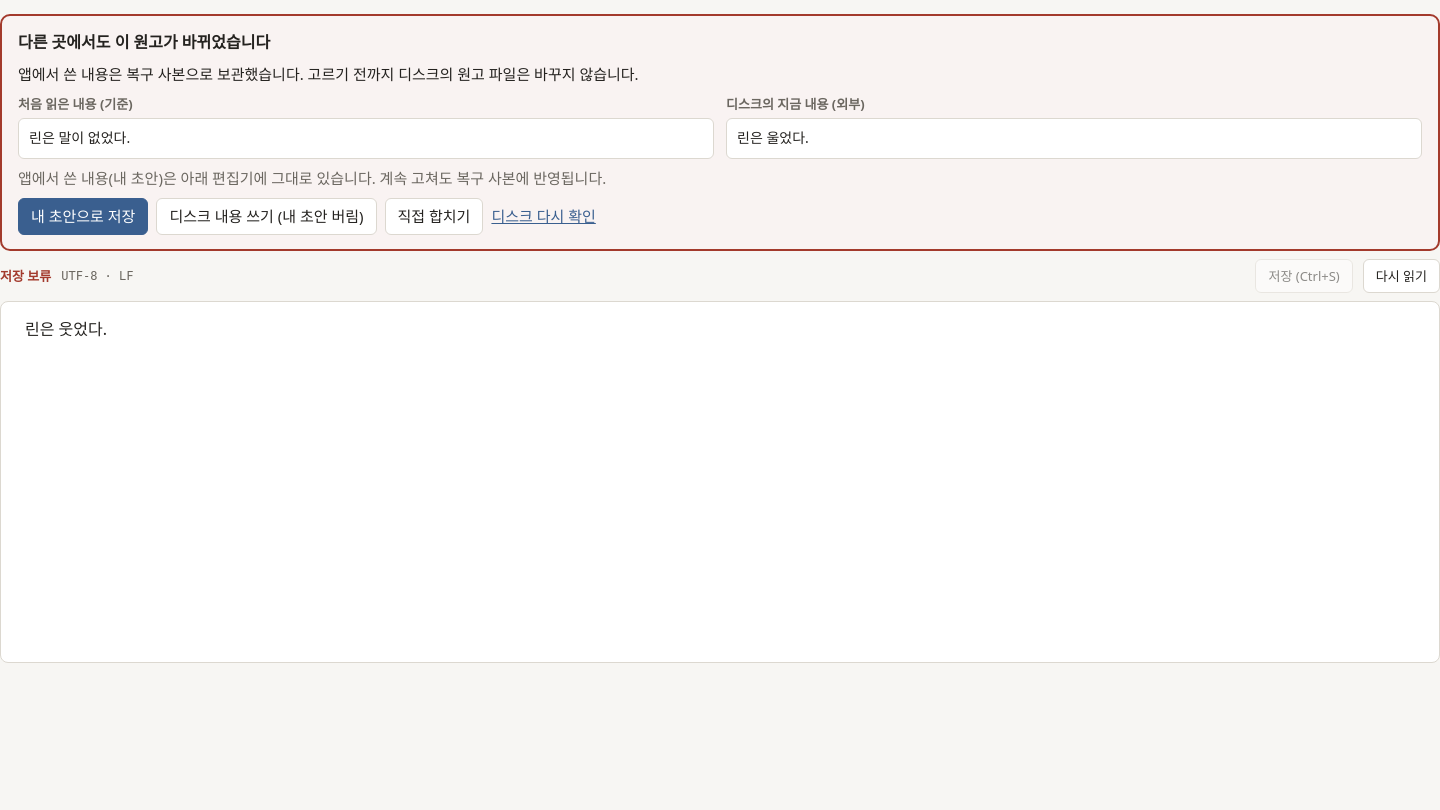
Scenario: 05 · external changes and conflicts › merge with the same line changed on both sides cannot be saved until the markers are gone
Click the button "직접 합치기" at (434, 216), box [384,198,483,235]
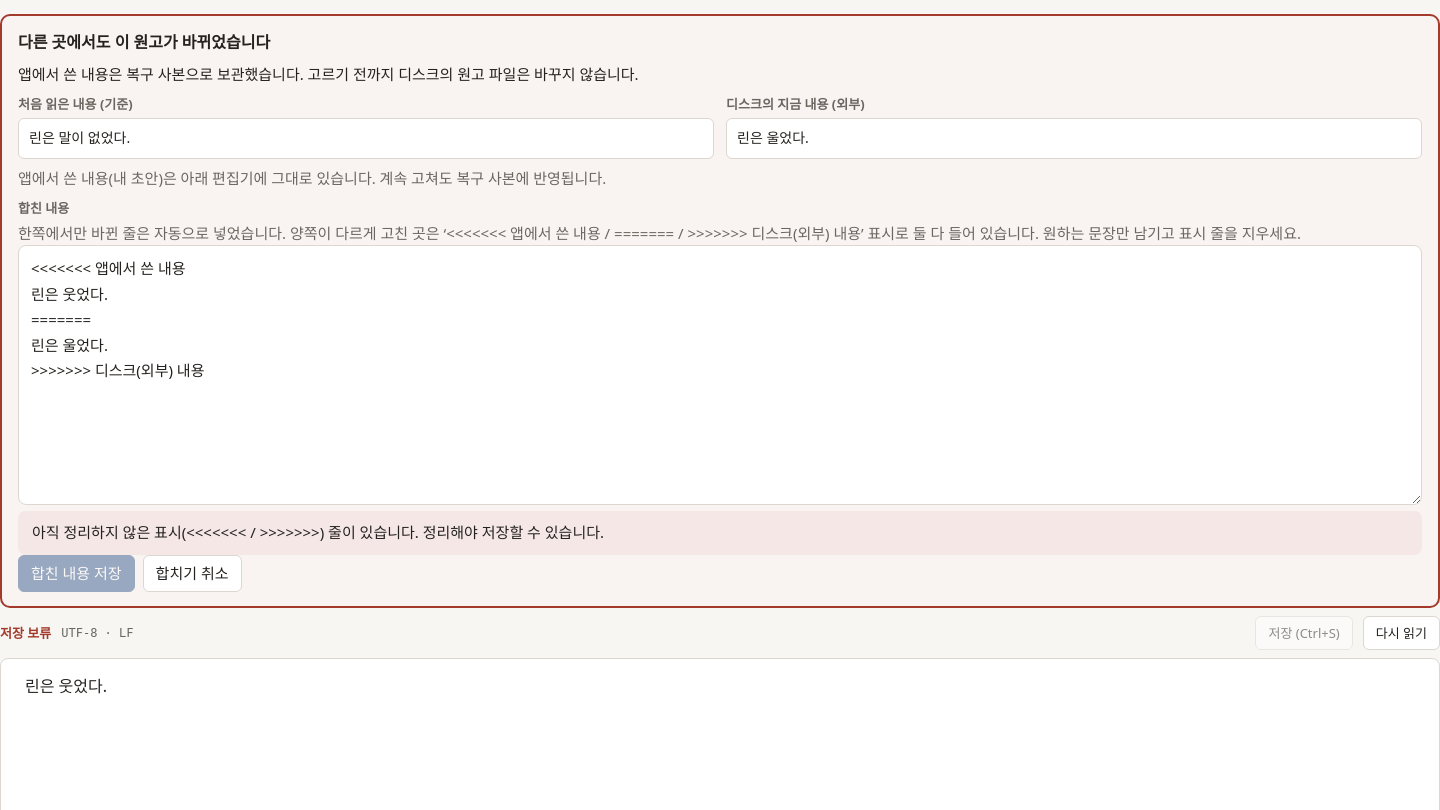
Check: the button "합친 내용 저장" is disabled, box [18,555,135,592]
Replace the text in the text box named "합친 내용" with "린은 웃다가 울었다." at (720, 375), box [18,245,1422,505]
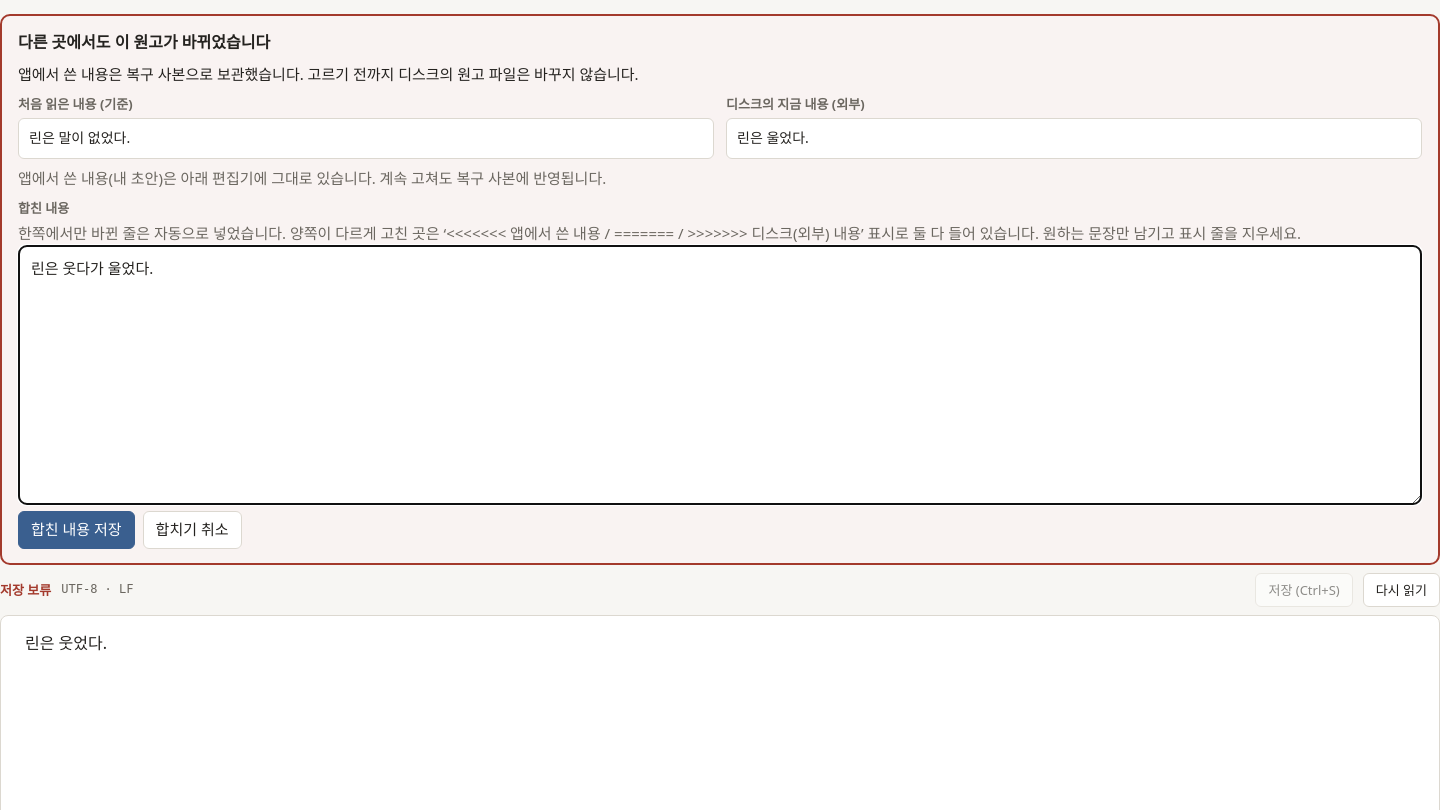
Check: the button "합친 내용 저장" is enabled
Click the button "합친 내용 저장" at (76, 530), box [18,512,135,549]
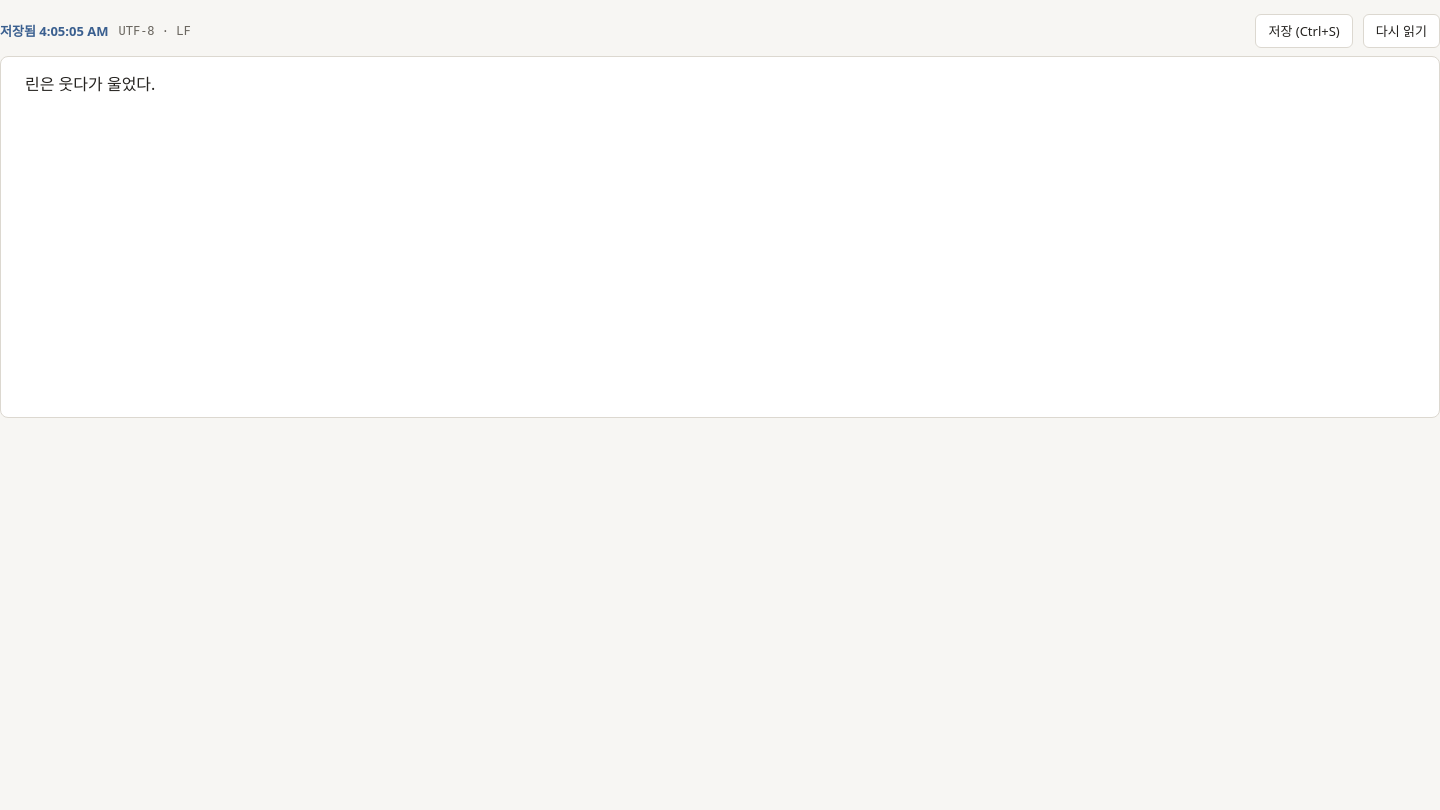
Check: the text box labelled "린은 웃다가 울었다." is shown, box [25,73,155,95]
